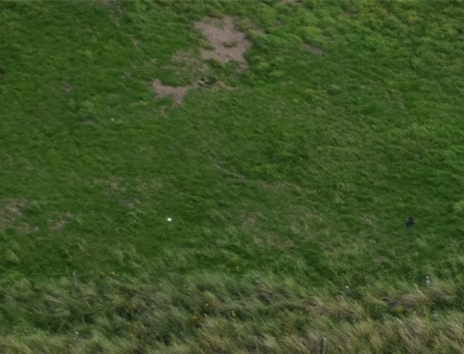white_in_green: (150, 200, 189, 238)
